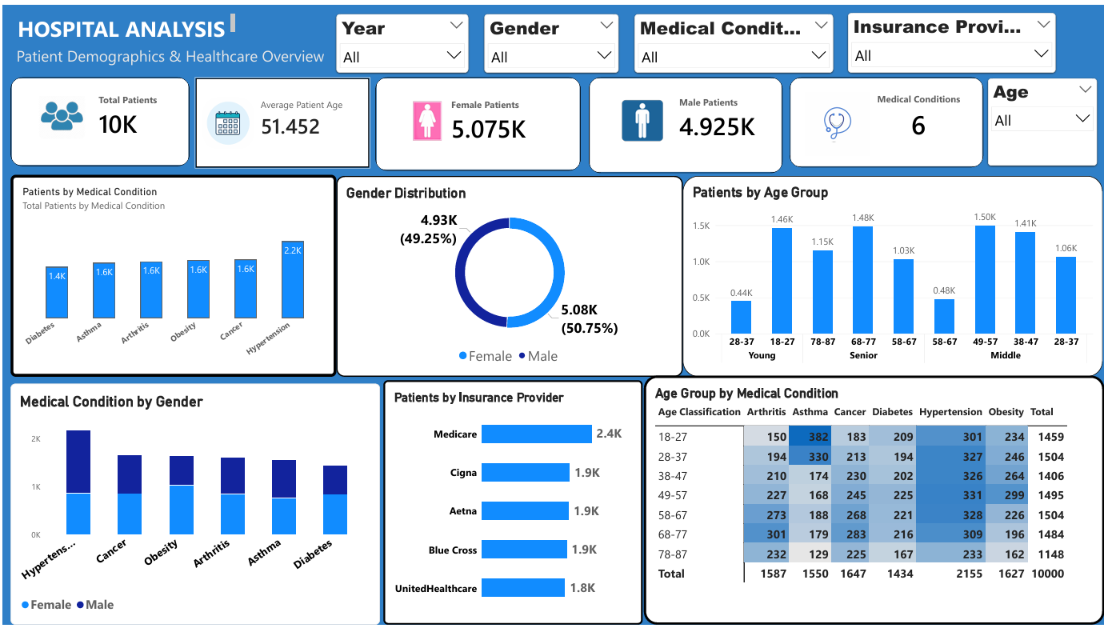

This screenshot's page, from the dashboard's own definition file:
{"tool":"powerbi","page":{"name":"Hospital Overview & Patient Demographics","canvas":[1920,1080],"ordinal":1},"visuals":[{"type":"textbox","box":[26,16,380,52],"z":0},{"type":"textbox","box":[24,70,605.1,96.7],"z":1000},{"type":"cardVisual","fields":{"Data":["Healthcare_Data_v1__1.Average Patient Age"]},"box":[334.8,126,306,158.8],"z":2000},{"type":"cardVisual","fields":{"Data":["Healthcare_Data_v1__1.Total Patients"]},"box":[14,126,312,154.8],"z":3000},{"type":"cardVisual","fields":{"Data":["Healthcare_Data_v1__1.Female Patients"]},"box":[650,126,358,162.8],"z":4000},{"type":"cardVisual","fields":{"Data":["Healthcare_Data_v1__1.Male Patients"]},"box":[1022,126,338,166.8],"z":5000},{"type":"cardVisual","fields":{"Data":["Healthcare_Data_v1__1.Medical Conditions"]},"box":[1372,126,338,157.2],"z":6000},{"type":"columnChart","title":"Medical Condition by Gender","fields":{"Category":["Healthcare_Data_v1__1.Medical Condition"],"Series":["Healthcare_Data_v1__1.Gender"],"Y":["Healthcare_Data_v1__1.Total Patients"]},"box":[14,660,644,420],"z":7000},{"type":"donutChart","title":"Gender Distribution","fields":{"Category":["Healthcare_Data_v1__1.Gender"],"Y":["Healthcare_Data_v1__1.Total Patients"]},"box":[582,298,604,350],"z":8000},{"type":"clusteredColumnChart","title":"Patients by Age Group","fields":{"Category":["Healthcare_Data_v1__1.Age Group","Healthcare_Data_v1__1.Age Classification"],"Y":["Healthcare_Data_v1__1.Total Patients"]},"box":[1186,298,732,350],"z":9000},{"type":"clusteredColumnChart","title":"Patients by Medical Condition","fields":{"Category":["Healthcare_Data_v1__1.Medical Condition"],"Y":["Healthcare_Data_v1__1.Total Patients"]},"box":[14,296,568,352],"z":10000},{"type":"clusteredBarChart","title":"Patients by Insurance Provider","fields":{"Category":["Healthcare_Data_v1__1.Insurance Provider"],"Y":["Healthcare_Data_v1__1.Total Patients"]},"box":[664,654,452,426],"z":11000},{"type":"pivotTable","title":"Age Group by Medical Condition","fields":{"Columns":["Healthcare_Data_v1__1.Medical Condition"],"Rows":["Healthcare_Data_v1__1.Age Classification"],"Values":["Healthcare_Data_v1__1.Total Patients"]},"box":[1118,646,802.8,434],"z":12000},{"type":"slicer","fields":{"Values":["Healthcare_Data_v1__1.Year"]},"box":[582,16,230,102],"z":13000},{"type":"slicer","fields":{"Values":["Healthcare_Data_v1__1.Gender"]},"box":[840,16,234,102],"z":14000},{"type":"slicer","fields":{"Values":["Healthcare_Data_v1__1.Medical Condition"]},"box":[1102,16,346,102],"z":15000},{"type":"slicer","fields":{"Values":["Healthcare_Data_v1__1.Insurance Provider"]},"box":[1474,14,362,104],"z":16000},{"type":"slicer","fields":{"Values":["Healthcare_Data_v1__1.Age Classification"]},"box":[1718,128,190,152],"z":17000}]}

Visuals, with their boxes in screenshot pixels (x1, y1, x2, y2), scaled from the page's 1920x1080 canvas onto the 1105x628 screenshot:
textbox: (left=15, top=9, right=234, bottom=40)
textbox: (left=14, top=41, right=362, bottom=97)
cardVisual - Healthcare_Data_v1__1.Average Patient Age: (left=193, top=73, right=369, bottom=166)
cardVisual - Healthcare_Data_v1__1.Total Patients: (left=8, top=73, right=188, bottom=163)
cardVisual - Healthcare_Data_v1__1.Female Patients: (left=374, top=73, right=580, bottom=168)
cardVisual - Healthcare_Data_v1__1.Male Patients: (left=588, top=73, right=783, bottom=170)
cardVisual - Healthcare_Data_v1__1.Medical Conditions: (left=790, top=73, right=984, bottom=165)
"Medical Condition by Gender" columnChart: (left=8, top=384, right=379, bottom=627)
"Gender Distribution" donutChart: (left=335, top=173, right=683, bottom=377)
"Patients by Age Group" clusteredColumnChart: (left=683, top=173, right=1104, bottom=377)
"Patients by Medical Condition" clusteredColumnChart: (left=8, top=172, right=335, bottom=377)
"Patients by Insurance Provider" clusteredBarChart: (left=382, top=380, right=642, bottom=627)
"Age Group by Medical Condition" pivotTable: (left=643, top=376, right=1104, bottom=627)
slicer - Healthcare_Data_v1__1.Year: (left=335, top=9, right=467, bottom=69)
slicer - Healthcare_Data_v1__1.Gender: (left=483, top=9, right=618, bottom=69)
slicer - Healthcare_Data_v1__1.Medical Condition: (left=634, top=9, right=833, bottom=69)
slicer - Healthcare_Data_v1__1.Insurance Provider: (left=848, top=8, right=1057, bottom=69)
slicer - Healthcare_Data_v1__1.Age Classification: (left=989, top=74, right=1098, bottom=163)
